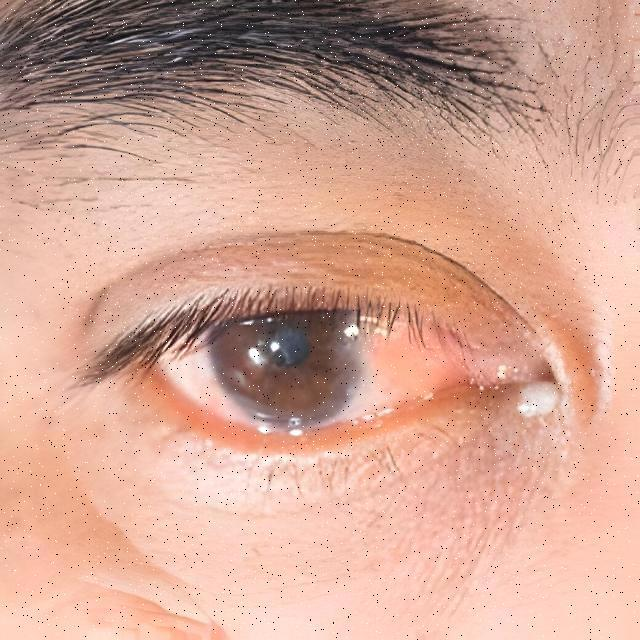Pterygium: (316, 308, 478, 416)
